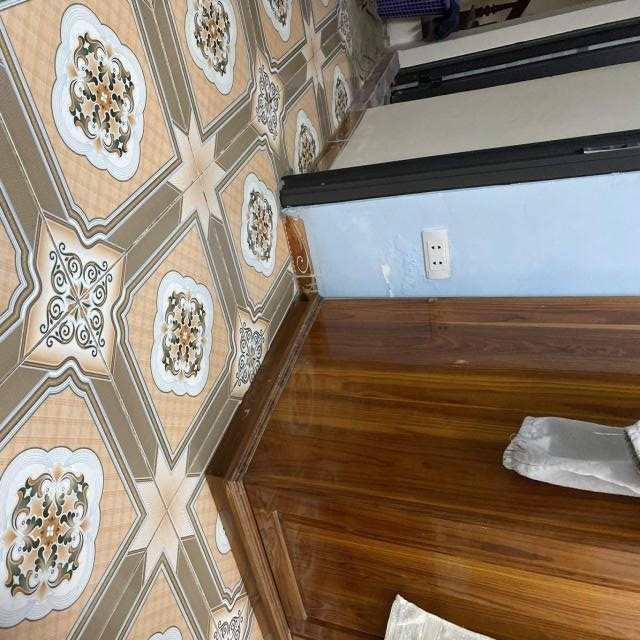outlet: (421, 229, 452, 279)
